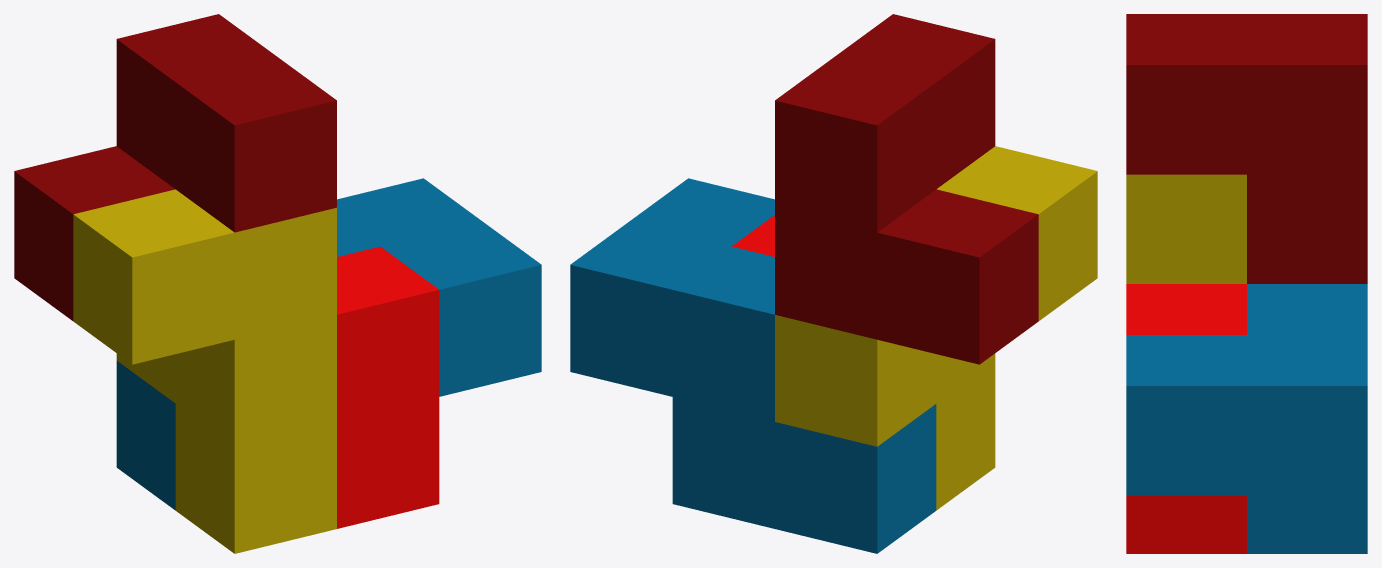
3 renders of one model, left to right at view 1: azimuth 30°, elevation 25°; view 2: azimuth 150°, elevation 25°; view 3: azimuth 270°, elevation 25°, orthographic. The views are drawn at different scales.
Parts seen in each view (by area): view 1: mergedBlocks(Clone); view 2: mergedBlocks(Clone); view 3: mergedBlocks(Clone).
Boxes of the visible parts, x1,y1,x2,y2 form: mergedBlocks(Clone): (14, 14, 541, 553); mergedBlocks(Clone): (570, 14, 1097, 553); mergedBlocks(Clone): (1126, 14, 1367, 553).
Size of the model in its own units: 4 by 4 by 2.
Materials: 4 (4 with a texture image).
